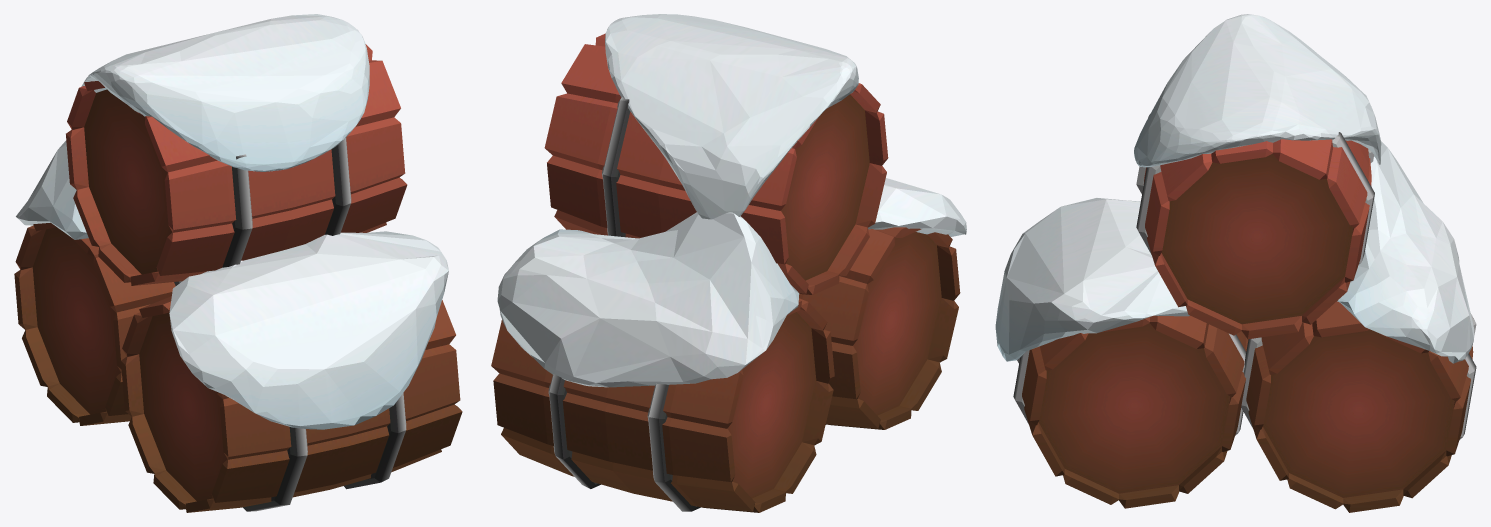
The picture shows the model from 3 angles, left to right: view 1: azimuth 30°, elevation 25°; view 2: azimuth 150°, elevation 25°; view 3: azimuth 270°, elevation 25°; orthographic projection. The views are drawn at different scales.
Visible parts, largest first — view 1: SnowyBarrels3; view 2: SnowyBarrels3; view 3: SnowyBarrels3.
Part boxes in pixels (box(x1,y1,x2,y2)): SnowyBarrels3: box(14, 14, 462, 512); SnowyBarrels3: box(491, 14, 966, 512); SnowyBarrels3: box(995, 14, 1476, 512).
Size of the model in its own units: 1.42 by 2.02 by 2.2.
1 material, 1 textured.
